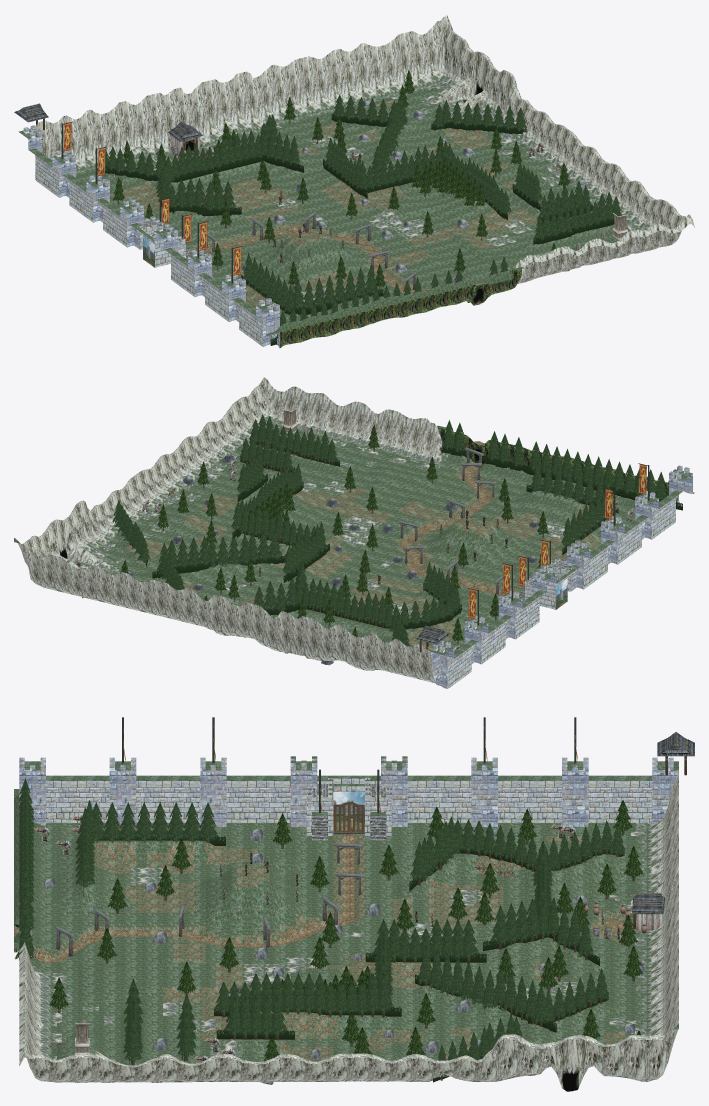
The model's file is map.gltf.
3 views of the same model, one above another, from view 1: azimuth 30°, elevation 25°; view 2: azimuth 150°, elevation 25°; view 3: azimuth 270°, elevation 25° (orthographic). The views are drawn at different scales.
Size of the model in its own units: 124 by 23.8 by 128.
Materials: 35 (35 with a texture image).
